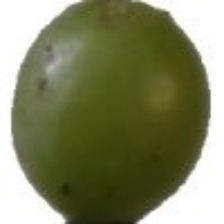grapes: (12, 52, 193, 217)
